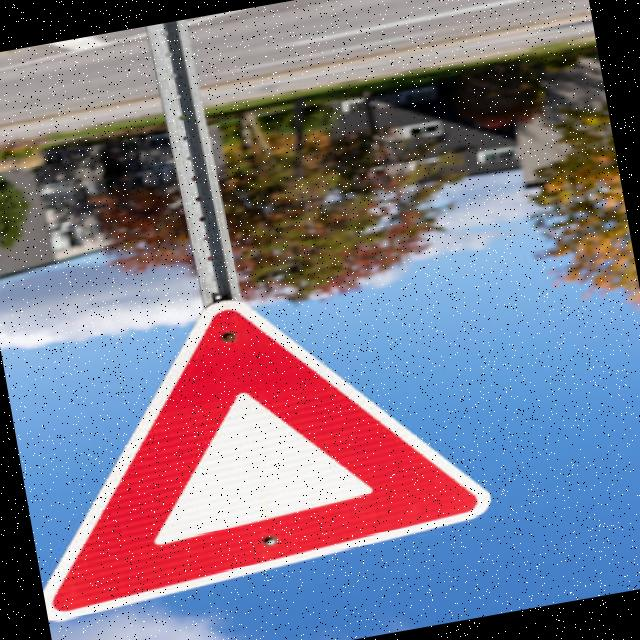give_way: (0, 251, 517, 634)
